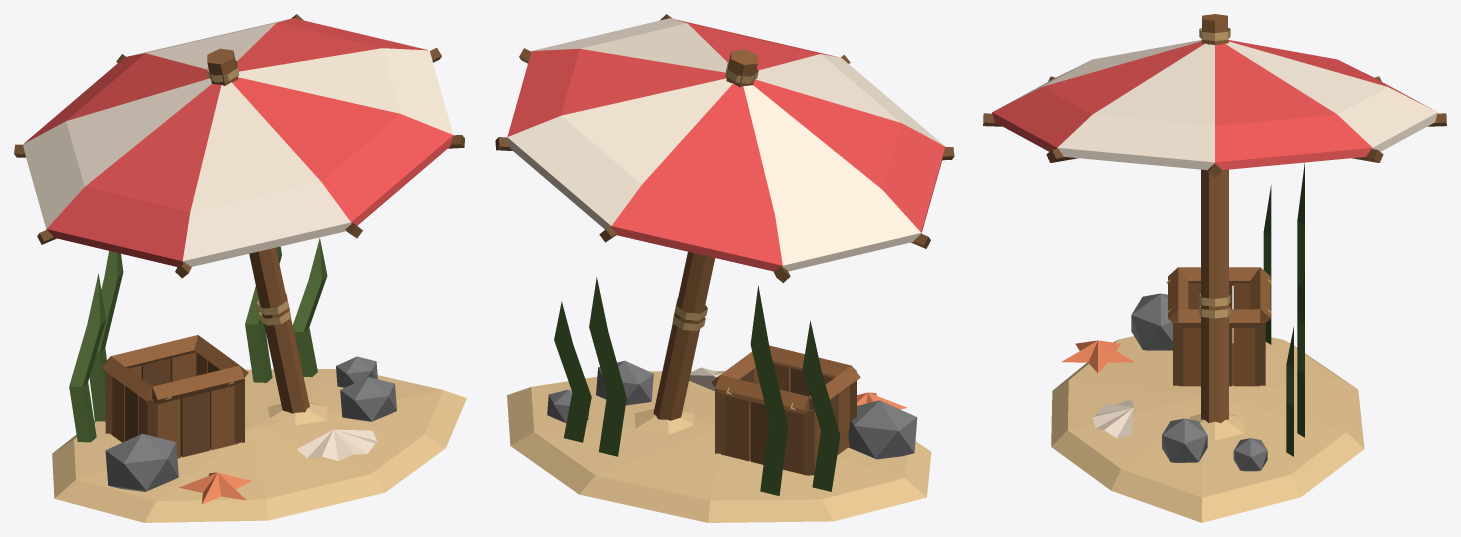
File: MiniBeachUmbrella.fbx
3 views of the same model, side by side, from view 1: azimuth 30°, elevation 25°; view 2: azimuth 150°, elevation 25°; view 3: azimuth 270°, elevation 25° (orthographic). The views are drawn at different scales.
Parts seen in each view (by area): view 1: Umbrella_Canopy, Sand_Base, Wooden_Crate, Umbrella_Pole, Rock_01.001, Seaweed_01, Seaweed_02, Seaweed_04, Rock_02.001, Seashell.001, Seaweed_03, Starfish.001 (+5 smaller); view 2: Umbrella_Canopy, Sand_Base, Wooden_Crate, Umbrella_Pole, Seaweed_02, Rock_01.001, Seaweed_03, Seaweed_01, Seaweed_04, Rock_02.001, Umbrella_Ribs, Sand_Pole_Mound (+3 smaller); view 3: Umbrella_Canopy, Sand_Base, Wooden_Crate, Umbrella_Pole, Rock_01.001, Rock_02.001, Starfish.001, Seashell.001, Seaweed_03, Umbrella_Ribs, Rock_03.001, Seaweed_04 (+5 smaller).
Boxes of the visible parts, x1,y1,x2,y2 form: Umbrella_Canopy: (23, 18, 453, 266); Sand_Base: (52, 369, 466, 522); Wooden_Crate: (102, 335, 248, 458); Umbrella_Pole: (221, 75, 309, 413); Rock_01.001: (105, 433, 178, 491); Seaweed_01: (69, 273, 105, 442); Seaweed_02: (89, 251, 123, 421); Seaweed_04: (292, 238, 327, 377); Rock_02.001: (340, 377, 396, 421); Seashell.001: (297, 429, 377, 460); Seaweed_03: (245, 246, 281, 382); Starfish.001: (179, 472, 251, 504); Umbrella_Canopy: (507, 18, 945, 271); Sand_Base: (507, 371, 931, 522); Wooden_Crate: (711, 345, 860, 475); Umbrella_Pole: (653, 76, 742, 420); Seaweed_02: (750, 285, 788, 495); Rock_01.001: (848, 400, 917, 459); Seaweed_03: (589, 277, 626, 456); Seaweed_01: (802, 320, 840, 491); Seaweed_04: (554, 301, 591, 442); Rock_02.001: (596, 360, 653, 405); Umbrella_Ribs: (495, 14, 954, 282); Sand_Pole_Mound: (634, 409, 694, 434); Umbrella_Canopy: (992, 40, 1437, 170); Sand_Base: (1051, 328, 1364, 522); Wooden_Crate: (1168, 267, 1270, 386); Umbrella_Pole: (1201, 41, 1228, 422); Rock_01.001: (1131, 293, 1172, 350); Rock_02.001: (1162, 418, 1207, 462); Starfish.001: (1062, 340, 1134, 372); Seashell.001: (1092, 399, 1133, 438); Seaweed_03: (1297, 269, 1304, 437); Umbrella_Ribs: (983, 76, 1446, 178); Rock_03.001: (1233, 438, 1267, 471); Seaweed_04: (1286, 326, 1293, 456).
Size of the model in its own units: 443 by 401 by 428.
Materials: 1 (1 with a texture image).
